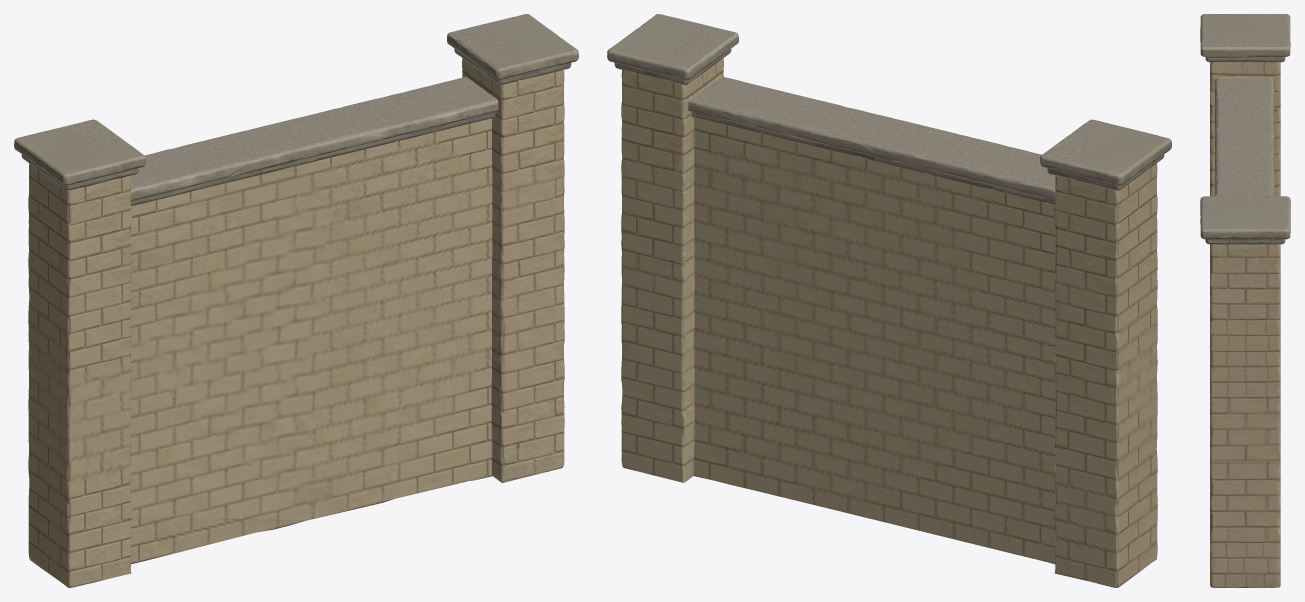
File: backwall.glb
3 views of the same model, side by side, from view 1: azimuth 30°, elevation 25°; view 2: azimuth 150°, elevation 25°; view 3: azimuth 270°, elevation 25° (orthographic). The views are drawn at different scales.
Size of the model in its own units: 1.9 by 1.48 by 0.3334.
1 material, 1 textured.
